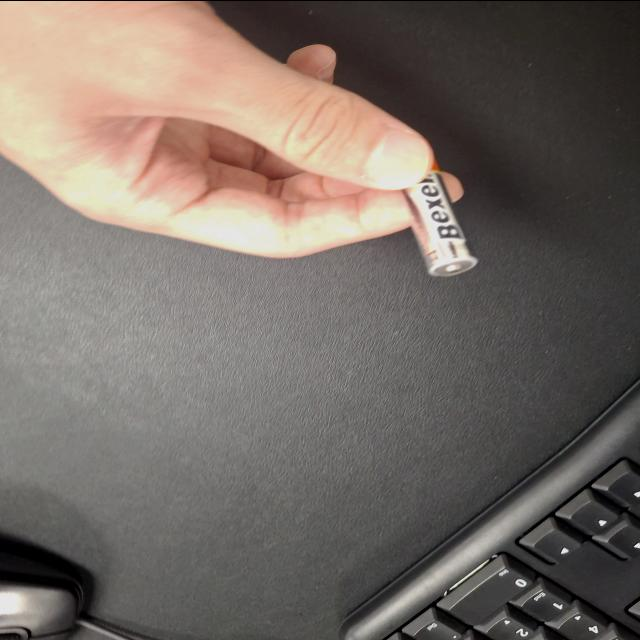AAA: (486, 462, 638, 518)
